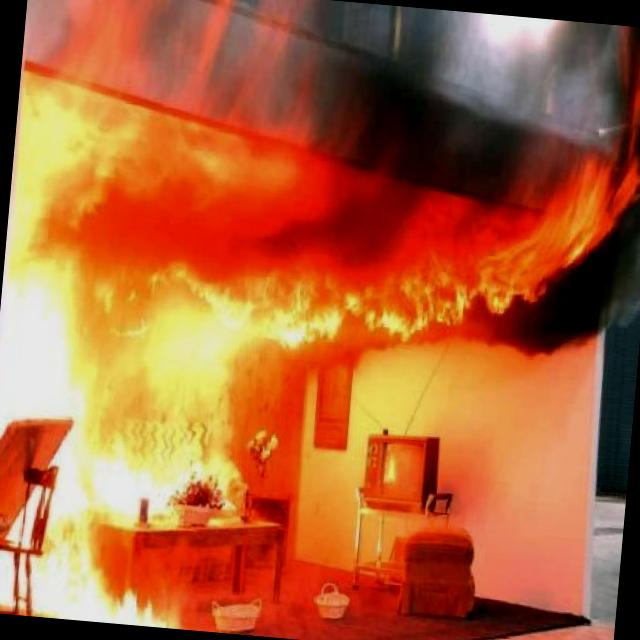fire: (0, 64, 640, 631)
